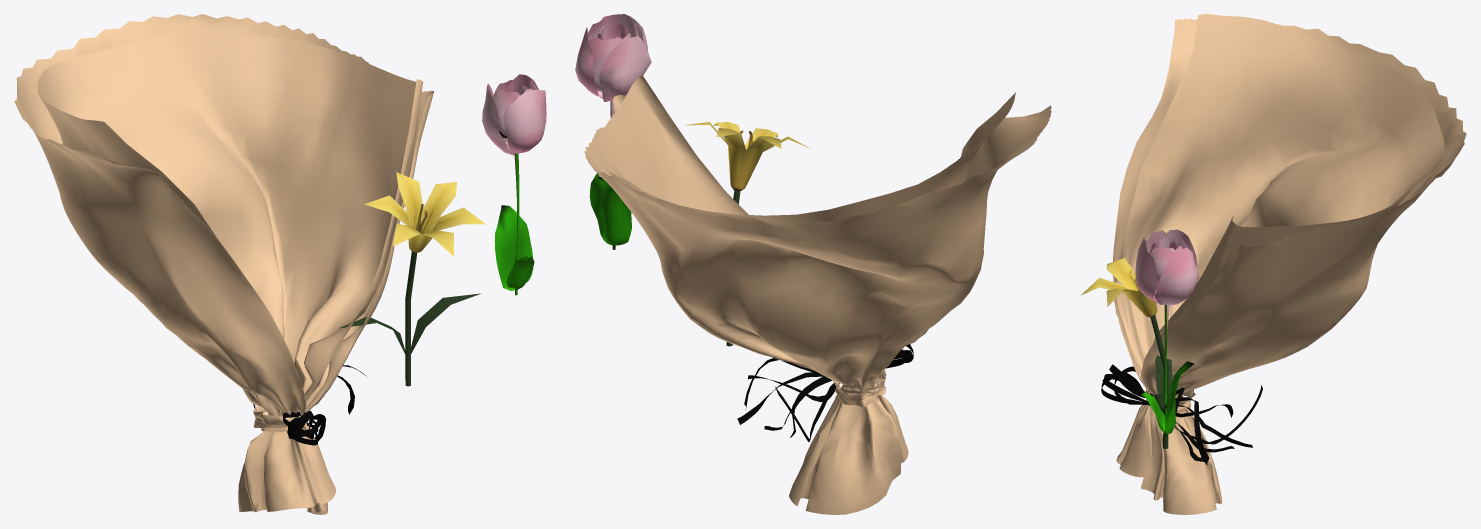
The picture shows the model from 3 angles, left to right: view 1: azimuth 30°, elevation 25°; view 2: azimuth 150°, elevation 25°; view 3: azimuth 270°, elevation 25°; orthographic projection. The views are drawn at different scales.
Parts seen in each view (by area): view 1: inner, outer, Geometry, SM_Lilly1, ribbon, parcel_knot; view 2: outer, inner, Geometry, SM_Lilly1, ribbon, parcel_knot; view 3: inner, outer, Geometry, ribbon, SM_Lilly1.
Boxes of the visible parts, x1=… form: inner: x1=37, y1=32, x2=423, y2=416; outer: x1=14, y1=14, x2=433, y2=514; Geometry: x1=482, y1=74, x2=546, y2=295; SM_Lilly1: x1=338, y1=172, x2=485, y2=386; ribbon: x1=253, y1=365, x2=366, y2=445; parcel_knot: x1=253, y1=406, x2=300, y2=431; outer: x1=584, y1=95, x2=1051, y2=514; inner: x1=595, y1=75, x2=1015, y2=223; Geometry: x1=575, y1=14, x2=651, y2=249; SM_Lilly1: x1=685, y1=122, x2=810, y2=346; ribbon: x1=737, y1=344, x2=913, y2=441; parcel_knot: x1=833, y1=368, x2=886, y2=407; inner: x1=1123, y1=14, x2=1444, y2=365; outer: x1=1113, y1=18, x2=1466, y2=514; Geometry: x1=1135, y1=229, x2=1198, y2=437; ribbon: x1=1101, y1=364, x2=1262, y2=465; SM_Lilly1: x1=1080, y1=258, x2=1172, y2=448.
Size of the model in its own units: 2.13 by 1.9 by 1.64.
Materials: 7 (2 with a texture image).
